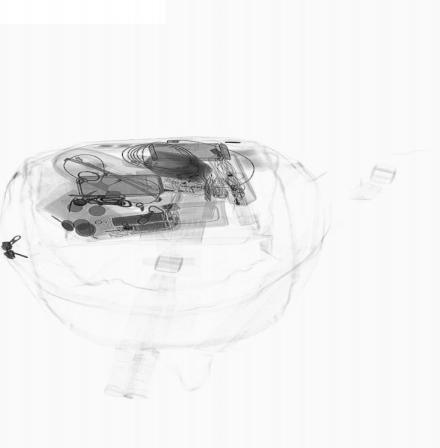Lighter: (160, 186, 211, 197)
